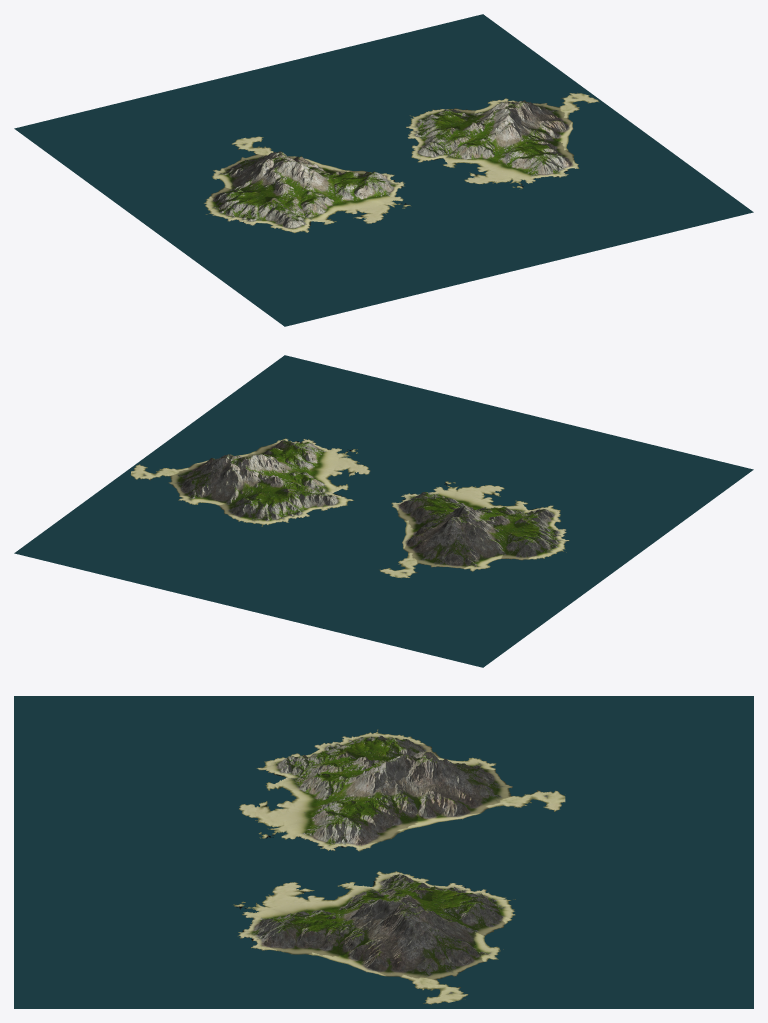
File: Terrain.fbx
3 renders of one model, top to bottom at view 1: azimuth 30°, elevation 25°; view 2: azimuth 150°, elevation 25°; view 3: azimuth 270°, elevation 25°, orthographic. The views are drawn at different scales.
Parts seen in each view (by area): view 1: ocean, northisland, southisland; view 2: ocean, southisland, northisland; view 3: ocean, northisland, southisland.
Boxes of the visible parts, x1=… form: ocean: x1=14, y1=14, x2=753, y2=326; northisland: x1=203, y1=136, x2=411, y2=233; southisland: x1=406, y1=92, x2=599, y2=189; ocean: x1=14, y1=355, x2=753, y2=667; southisland: x1=131, y1=438, x2=370, y2=526; northisland: x1=379, y1=481, x2=569, y2=578; ocean: x1=14, y1=696, x2=753, y2=1008; northisland: x1=239, y1=729, x2=565, y2=851; southisland: x1=233, y1=871, x2=515, y2=1004.
Bounding box in the file's own units: 2000 × 111 × 2000.
3 materials, 3 textured.
